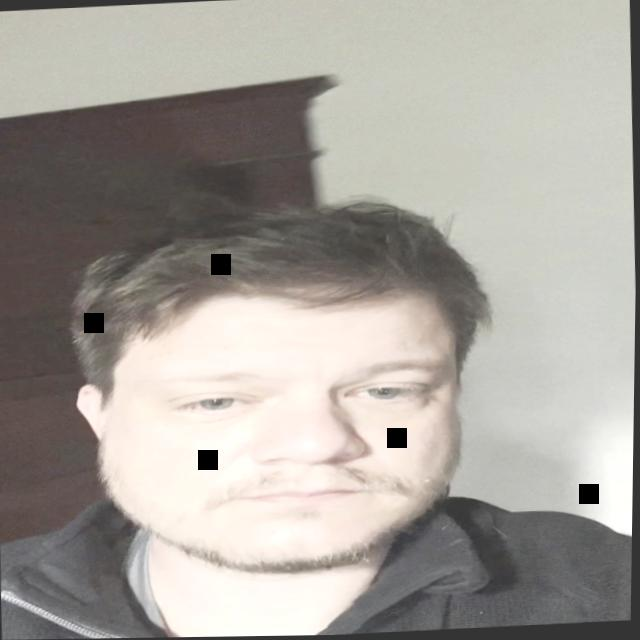NO-Mask: (66, 218, 483, 588)
